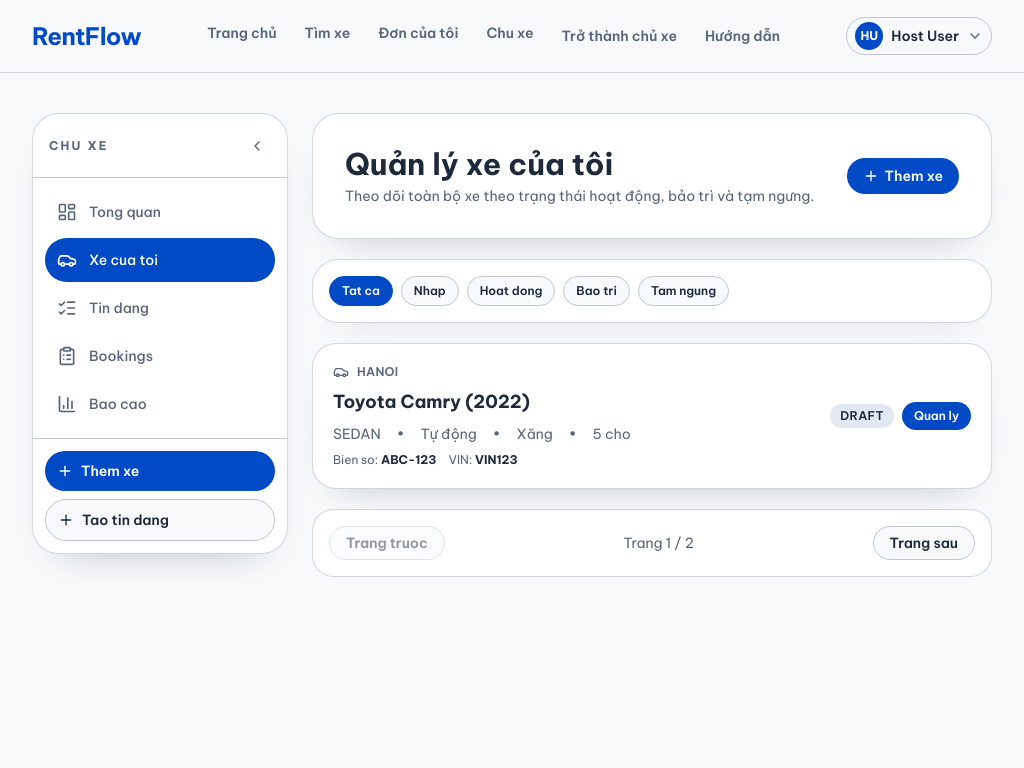
Test case: HostVehiclesPageView › switches filter and requests paginated vehicle data
The width and height of the screenshot is (1024, 768).
Check: the heading "Toyota Camry (2022)" is shown, box [333,390,530,413]
Check: the text "Trang 1 / 2" is shown, box [624,533,694,553]
What coordinates should you click on to do the following:
click the button "Hoat dong"
I would click on:
 (511, 291)
Its box is [467,276,555,306].
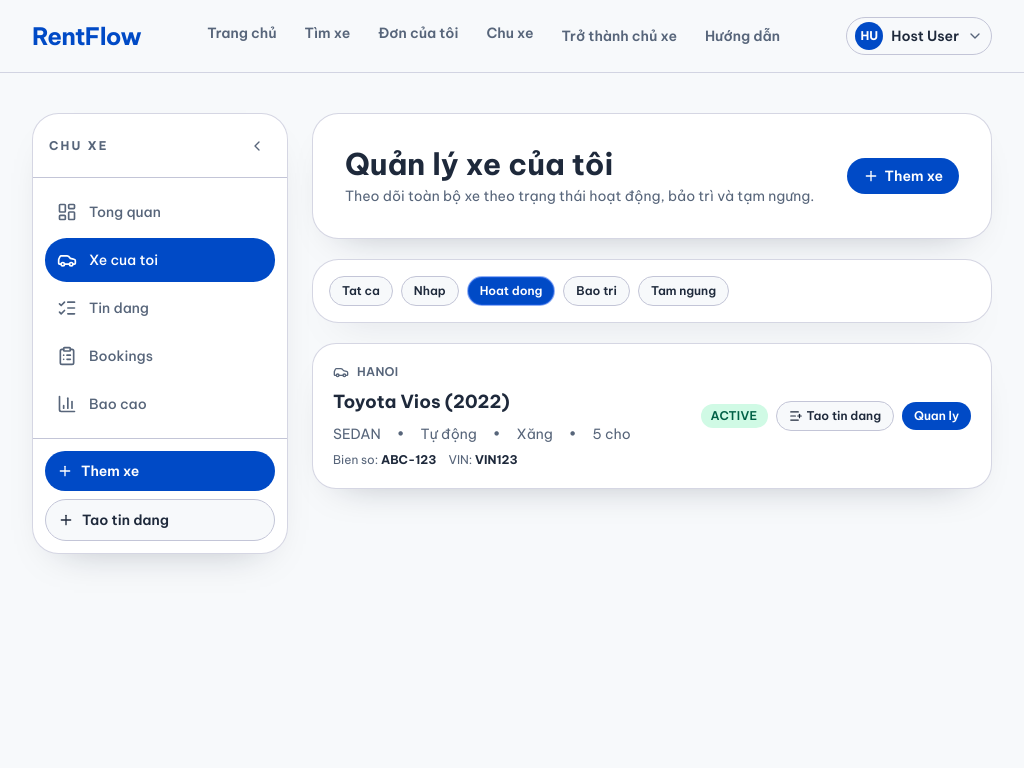
Check: the heading "Toyota Vios (2022)" is shown, box [333,390,510,413]
